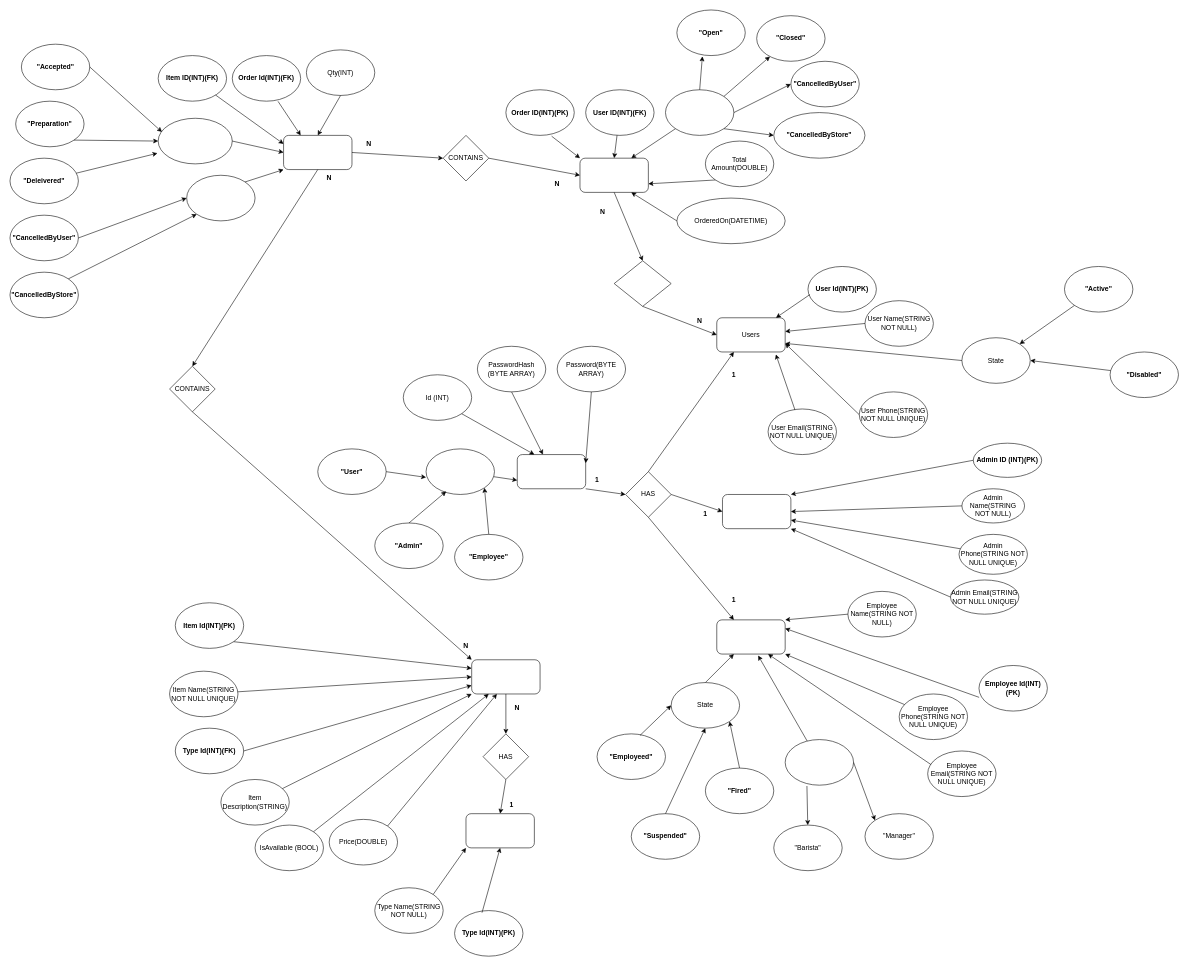
This 1188x966 diagram has some shape labels left out. Here are the shapes that lost their labels. From the top down, the centre of each, then its label:
At (699,112): "Order Status(String)".
At (195,141): "Item Status (STRING)".
At (317,152): "Order Items".
At (613,175): "Orders".
At (220,198): "CancellationStatus".
At (642,283): "ORDEREDBY".
At (460,471): "Type".
At (551,471): "Authentication".
At (756,511): "Admin".
At (750,636): "Employee".
At (505,676): "Items".
At (819,762): "Role(STRING NOT NULL)".
At (499,830): "Item Type".
